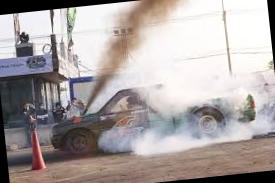Smoke: (63, 0, 191, 116), (125, 62, 275, 154)
